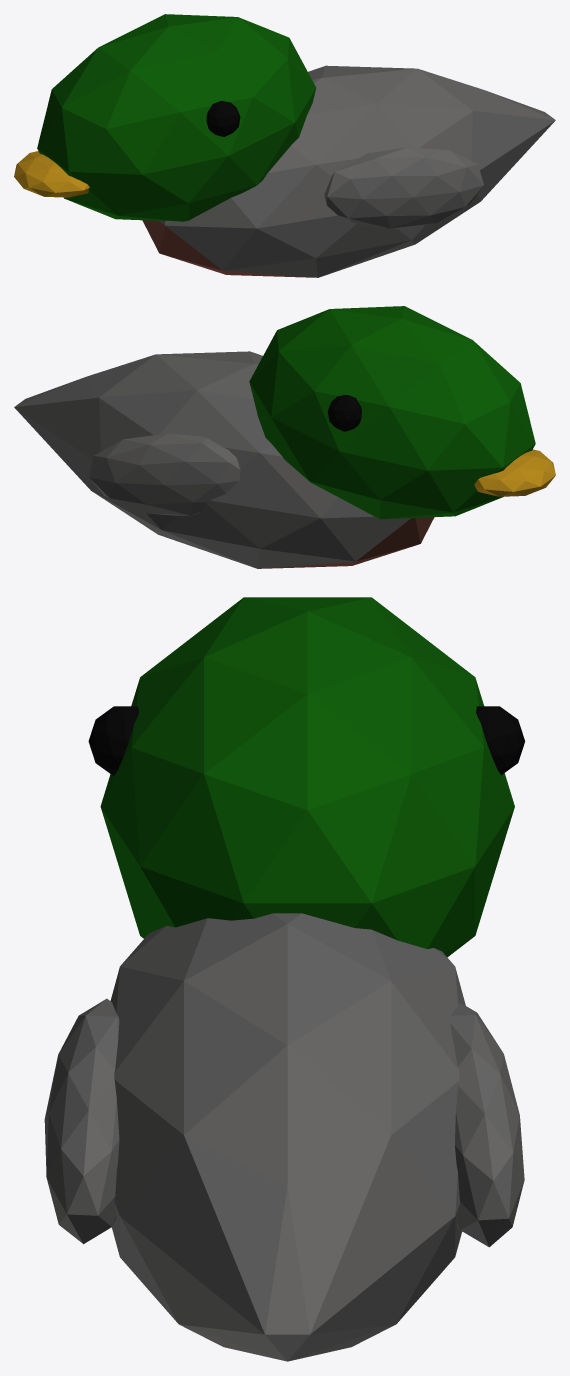
Rendered from duck.glb.
3 views of the same model, one above another, from view 1: azimuth 30°, elevation 25°; view 2: azimuth 150°, elevation 25°; view 3: azimuth 270°, elevation 25° (orthographic). The views are drawn at different scales.
Parts seen in each view (by area): view 1: Icosphere.001, Icosphere, Icosphere.004, Icosphere.006, Icosphere.002; view 2: Icosphere.001, Icosphere, Icosphere.005, Icosphere.006, Icosphere.003; view 3: Icosphere, Icosphere.001, Icosphere.004, Icosphere.005, Icosphere.002, Icosphere.003.
Part boxes in pixels (<box>): Icosphere.001: <box>37,14,316,221</box>; Icosphere: <box>142,65,555,277</box>; Icosphere.004: <box>324,147,483,228</box>; Icosphere.006: <box>14,151,89,197</box>; Icosphere.002: <box>206,101,240,136</box>; Icosphere.001: <box>249,306,535,519</box>; Icosphere: <box>14,351,434,568</box>; Icosphere.005: <box>89,433,240,515</box>; Icosphere.006: <box>474,449,555,496</box>; Icosphere.003: <box>327,395,361,431</box>; Icosphere: <box>110,913,465,1361</box>; Icosphere.001: <box>100,597,514,957</box>; Icosphere.004: <box>44,998,119,1244</box>; Icosphere.005: <box>450,1003,524,1247</box>; Icosphere.002: <box>88,706,138,775</box>; Icosphere.003: <box>476,706,525,775</box>.
Bounding box in the file's own units: 5.82 × 2.89 × 2.32.
